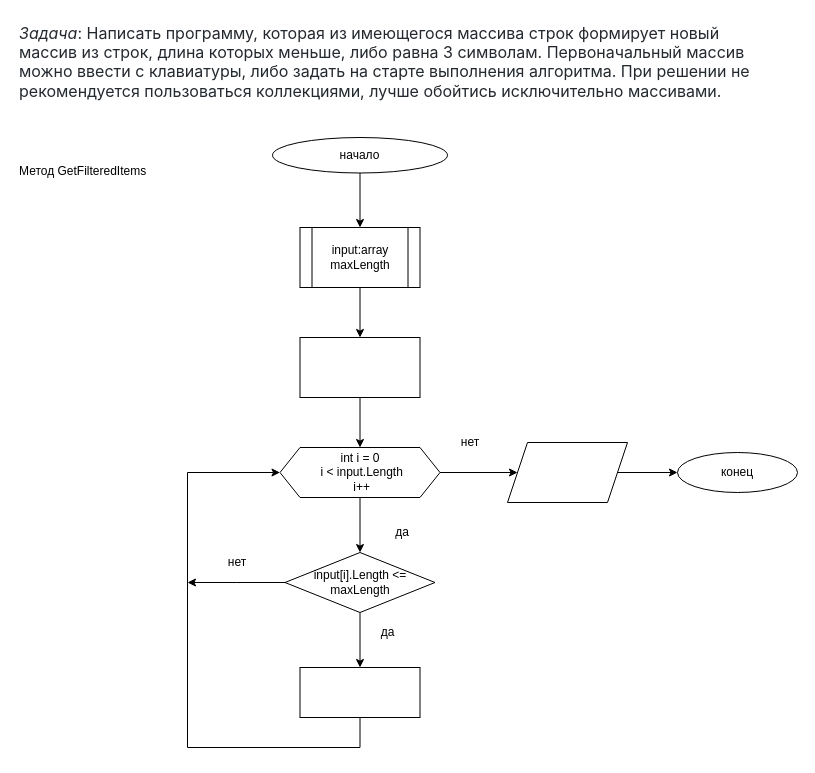
This 815x773 diagram has some shape labels left out. Here are the shapes that lost their labels. From the top down, the box of each, then its label:
(299, 336, 420, 398): resalt:array k = 0
(506, 442, 628, 502): result:array
(299, 666, 420, 718): result[k] = input[i] k++;
